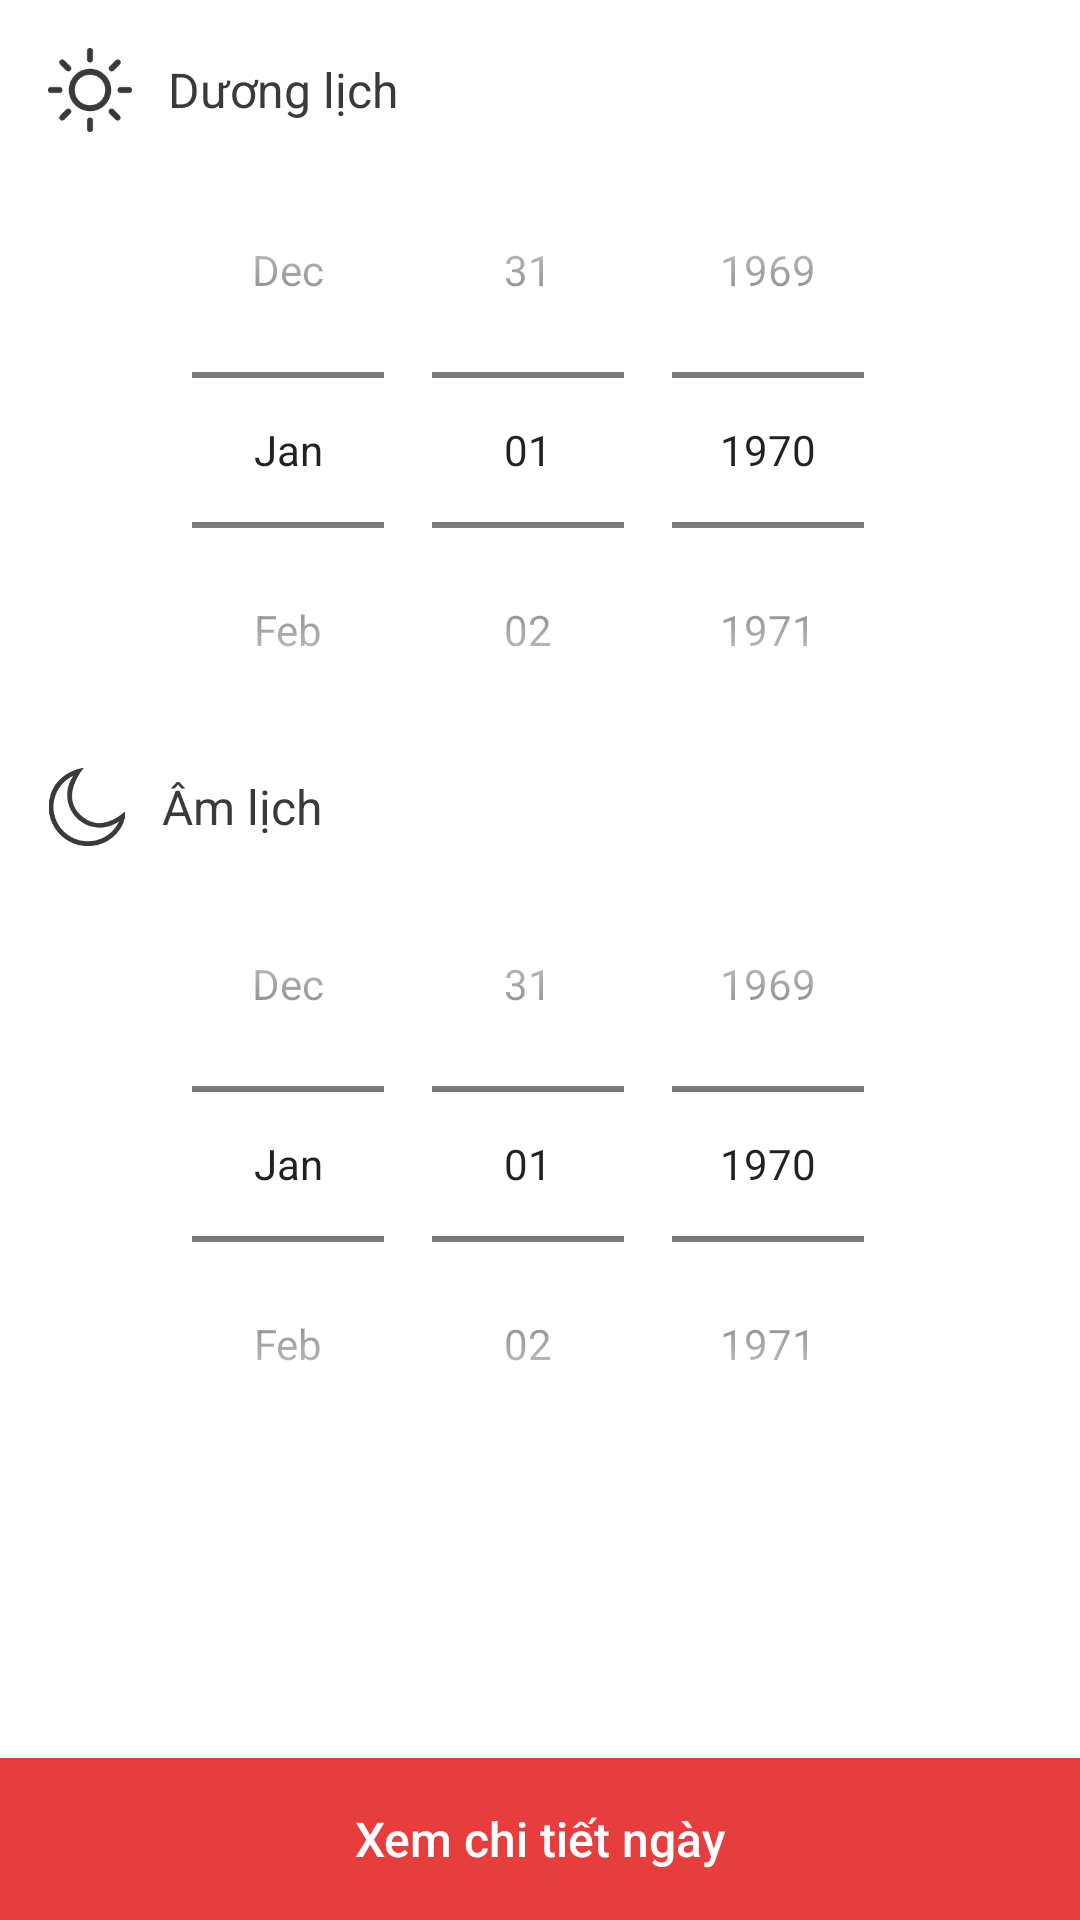

Where icons sit on this 1080*1920 app screen, as {"left": x1, "top": y1, "right": x2, "bottom": y2}:
amlich doingay: {"left": 49, "top": 768, "right": 125, "bottom": 846}
duonglich doingay: {"left": 48, "top": 48, "right": 132, "bottom": 132}
